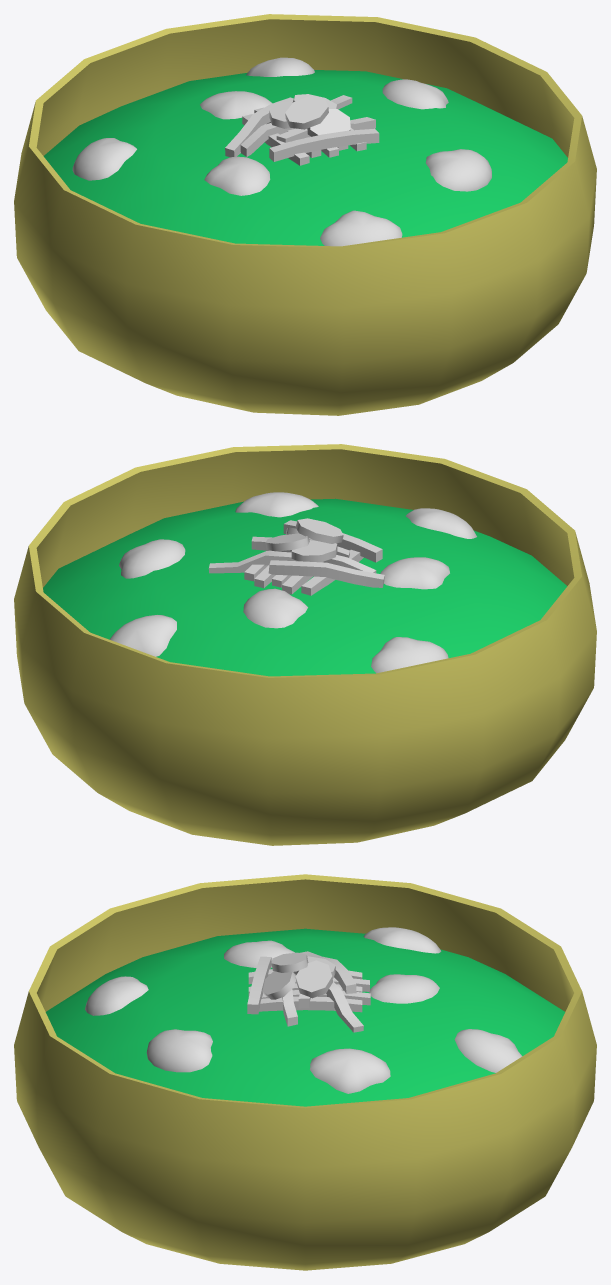
The model's file is Clam Kalguksu.fbx.
3 renders of one model, top to bottom at view 1: azimuth 30°, elevation 25°; view 2: azimuth 150°, elevation 25°; view 3: azimuth 270°, elevation 25°, orthographic.
Parts seen in each view (by area): view 1: Clam Kalguksu - Clam Noodle Soup; view 2: Clam Kalguksu - Clam Noodle Soup; view 3: Clam Kalguksu - Clam Noodle Soup.
Part boxes in pixels (<box>): Clam Kalguksu - Clam Noodle Soup: <box>14,14,596,415</box>; Clam Kalguksu - Clam Noodle Soup: <box>14,444,596,845</box>; Clam Kalguksu - Clam Noodle Soup: <box>14,874,596,1270</box>.
Size of the model in its own units: 14.36 by 6.64 by 14.36.
